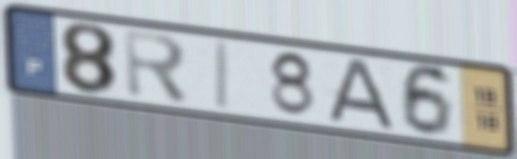6: (396, 61, 458, 142)
8: (58, 19, 122, 97), (267, 50, 317, 119)
A: (321, 57, 401, 134)
I: (214, 38, 233, 114)
R: (120, 26, 192, 108)
